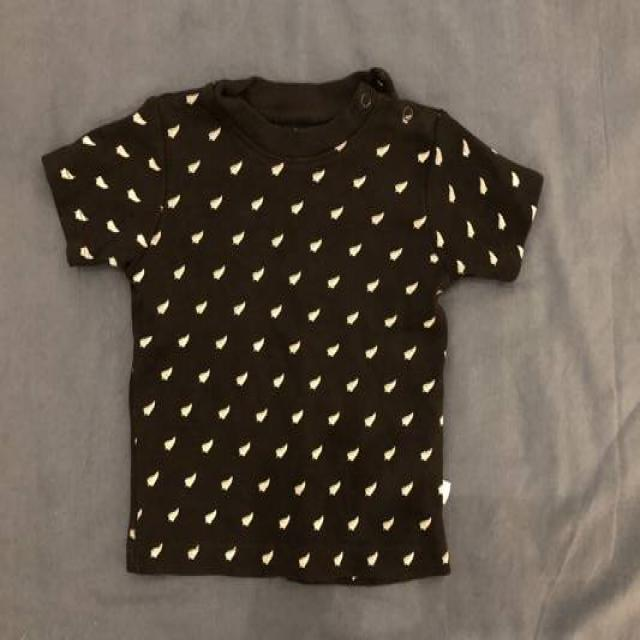Clothes -Biodegradable-: (46, 72, 542, 584)
